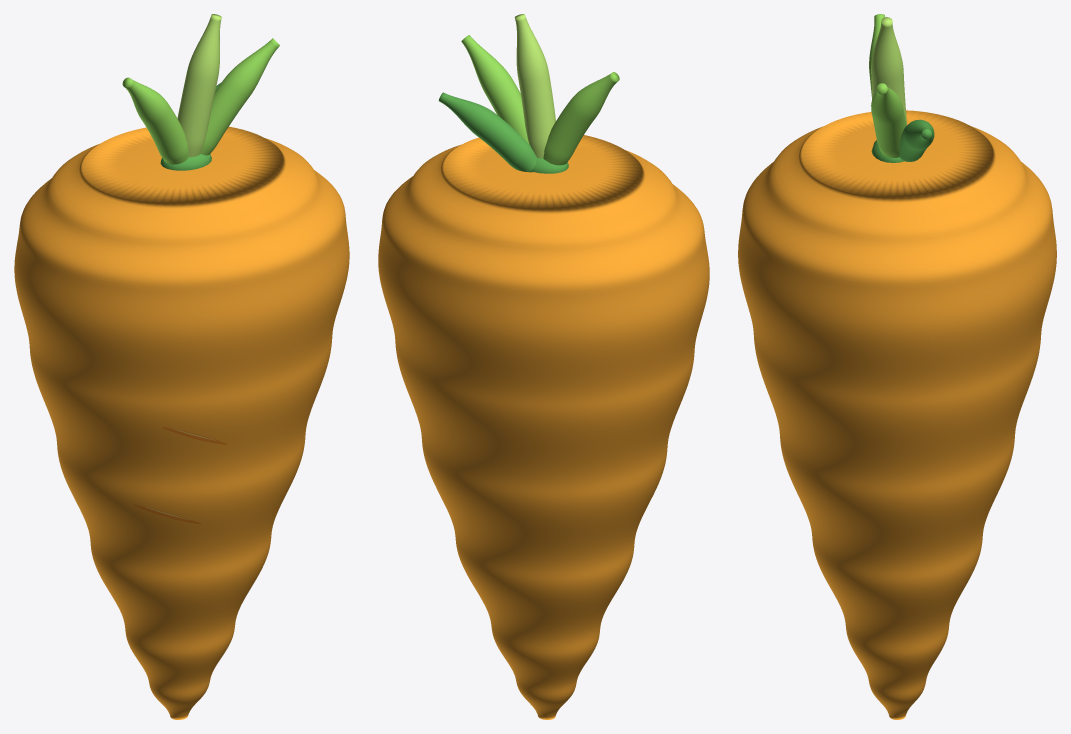
Rendered from Crop_Carrot_Normal_v001_reference_r06.fbx.
3 renders of one model, left to right at view 1: azimuth 30°, elevation 25°; view 2: azimuth 150°, elevation 25°; view 3: azimuth 270°, elevation 25°, orthographic. The views are drawn at different scales.
Visible parts, largest first — view 1: Crop_Carrot_Normal_v001_Body_Reference_r06, LeafStem_CenterTall_Reference_r06, LeafStem_RightTall_Reference_r06, LeafStem_LeftBack_Reference_r06; view 2: Crop_Carrot_Normal_v001_Body_Reference_r06, LeafStem_CenterTall_Reference_r06, LeafStem_LeftBack_Reference_r06, LeafStem_RightLow_Reference_r06, LeafStem_RightTall_Reference_r06; view 3: Crop_Carrot_Normal_v001_Body_Reference_r06, LeafStem_CenterTall_Reference_r06, LeafStem_RightTall_Reference_r06, LeafStem_RightLow_Reference_r06.
Boxes of the visible parts, bbox=[...] form: Crop_Carrot_Normal_v001_Body_Reference_r06: bbox=[14, 126, 349, 719]; LeafStem_CenterTall_Reference_r06: bbox=[177, 14, 221, 157]; LeafStem_RightTall_Reference_r06: bbox=[200, 38, 279, 155]; LeafStem_LeftBack_Reference_r06: bbox=[122, 77, 188, 164]; Crop_Carrot_Normal_v001_Body_Reference_r06: bbox=[378, 135, 709, 719]; LeafStem_CenterTall_Reference_r06: bbox=[514, 14, 555, 158]; LeafStem_LeftBack_Reference_r06: bbox=[543, 72, 619, 165]; LeafStem_RightLow_Reference_r06: bbox=[438, 92, 536, 172]; LeafStem_RightTall_Reference_r06: bbox=[461, 35, 529, 144]; Crop_Carrot_Normal_v001_Body_Reference_r06: bbox=[738, 110, 1056, 719]; LeafStem_CenterTall_Reference_r06: bbox=[871, 17, 906, 125]; LeafStem_RightTall_Reference_r06: bbox=[871, 83, 906, 157]; LeafStem_RightLow_Reference_r06: bbox=[899, 119, 934, 161].
Size of the model in its own units: 114 by 257 by 104.
